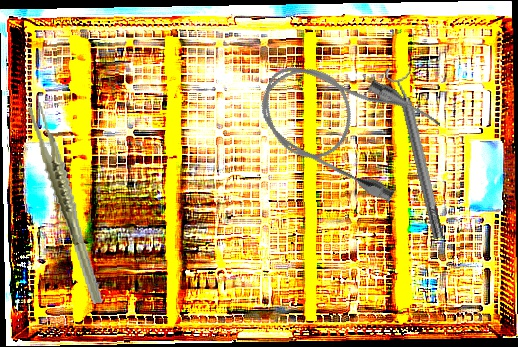Cannula: (244, 38, 446, 209)
Fixation Ring: (383, 63, 452, 242)
Tissue Forceps: (27, 97, 104, 309)
